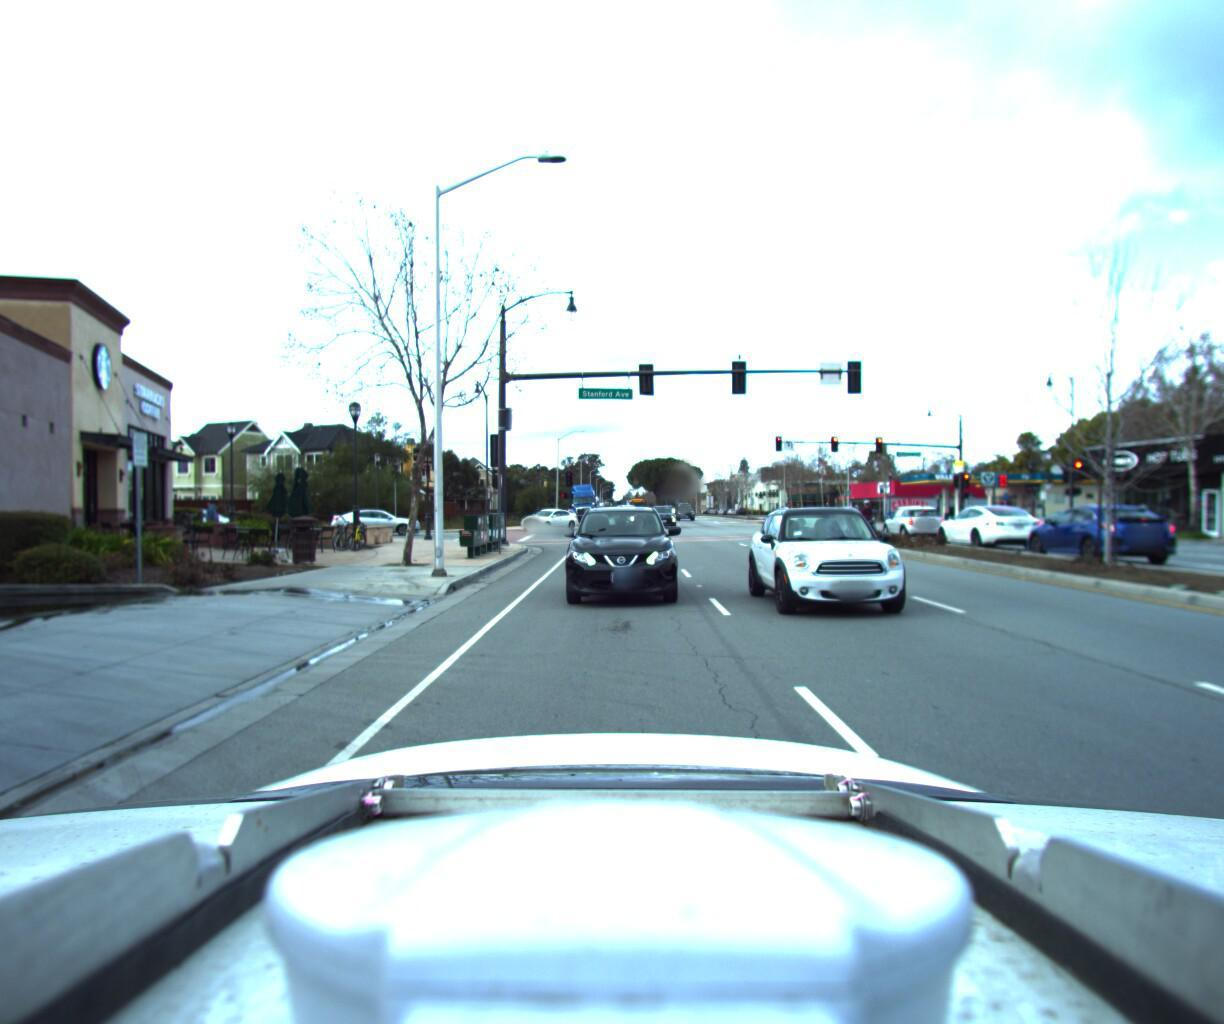bicycle: (853, 491, 885, 529), (328, 510, 350, 547), (349, 513, 368, 547)
car: (747, 497, 953, 635), (560, 501, 678, 616), (1014, 494, 1187, 560), (929, 497, 1047, 545), (878, 496, 948, 535), (329, 502, 421, 530), (519, 503, 580, 527), (793, 498, 849, 519), (648, 500, 677, 524), (674, 495, 697, 514)
truck: (567, 477, 598, 519)
